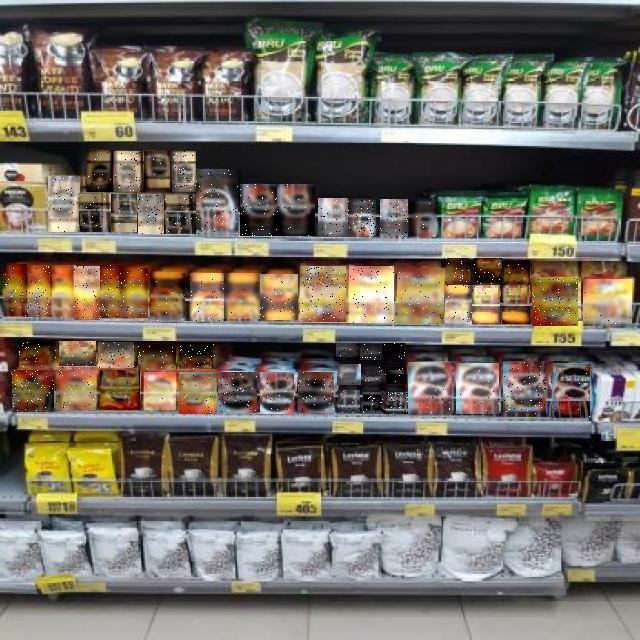Coffee: (196, 170, 238, 236), (300, 266, 346, 322), (399, 268, 445, 324), (349, 266, 394, 323), (408, 362, 452, 415), (503, 362, 546, 416), (533, 277, 579, 326), (583, 280, 632, 326), (456, 363, 499, 414), (552, 364, 590, 418), (240, 184, 278, 236), (277, 184, 315, 236), (48, 176, 80, 232), (12, 370, 54, 412), (260, 275, 298, 321), (224, 273, 261, 319), (150, 274, 185, 322), (190, 273, 224, 321), (56, 370, 96, 410), (100, 370, 140, 410), (218, 372, 257, 413), (179, 372, 216, 414), (298, 372, 334, 413), (261, 372, 295, 414), (75, 266, 101, 320), (100, 265, 126, 318), (52, 265, 76, 318), (144, 372, 176, 410), (124, 268, 148, 318), (4, 264, 27, 316), (318, 198, 348, 237), (164, 194, 193, 234), (28, 265, 50, 317), (87, 150, 113, 192), (502, 285, 530, 324), (472, 285, 500, 324), (445, 286, 472, 326), (115, 151, 141, 192), (380, 200, 408, 238), (144, 152, 170, 192), (138, 194, 164, 234), (349, 199, 377, 236), (59, 342, 96, 370), (80, 193, 106, 232), (111, 194, 137, 232), (20, 342, 58, 368), (139, 344, 177, 370), (172, 151, 196, 192), (409, 201, 437, 236), (98, 343, 134, 369), (180, 343, 216, 369), (475, 259, 503, 285), (504, 261, 530, 285), (446, 259, 469, 285), (384, 392, 408, 414), (337, 364, 361, 385), (338, 391, 360, 413), (364, 392, 386, 414), (361, 366, 384, 385), (385, 367, 407, 384), (383, 344, 405, 360), (360, 345, 382, 361), (336, 344, 356, 360)
